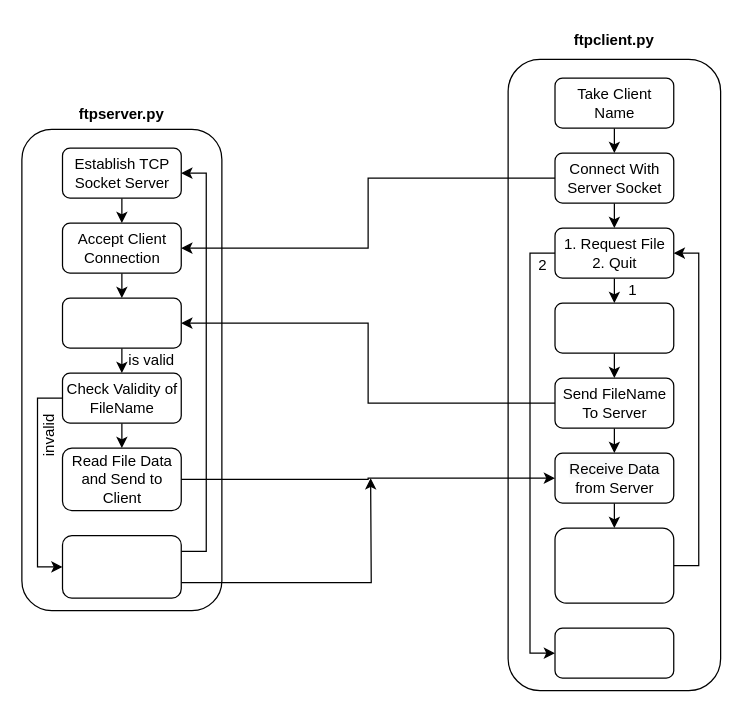
Image size: 743x713. Some labels were removed from this diagram. The centre of each missing label's shape, as x and y in pixels:
Exit Client: point (614, 652)
If data != "-1" > create new file Else > error propmt: point (614, 565)
Read FileName: point (614, 327)
Receive Data from Client: point (121, 322)
Send -1 to Client: point (121, 566)
